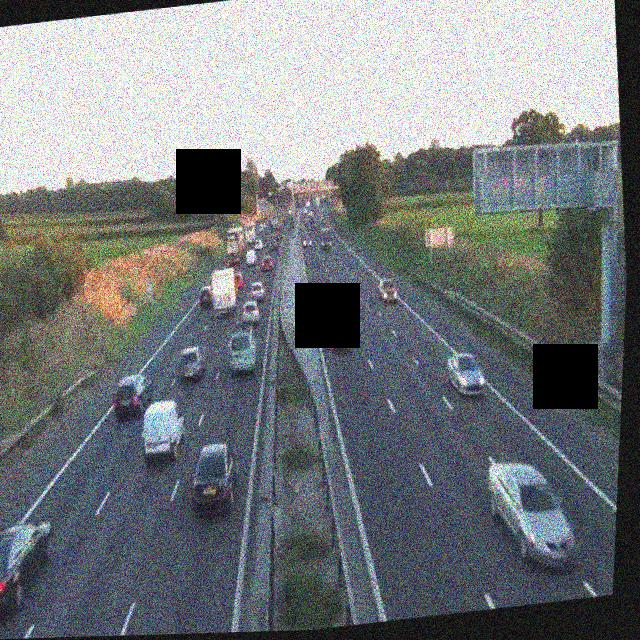car: (481, 455, 580, 576), (0, 518, 58, 619), (187, 441, 242, 517), (137, 397, 188, 465), (444, 349, 488, 399), (110, 372, 152, 420), (224, 327, 260, 376), (177, 343, 207, 383), (327, 312, 354, 351), (376, 276, 400, 304), (239, 298, 260, 323), (198, 281, 215, 307), (249, 277, 266, 301), (232, 271, 247, 293), (259, 253, 273, 270), (320, 235, 332, 252), (301, 232, 313, 248), (268, 237, 278, 251)
truck: (209, 267, 241, 317), (224, 223, 252, 270), (240, 220, 260, 251), (243, 245, 258, 266)
